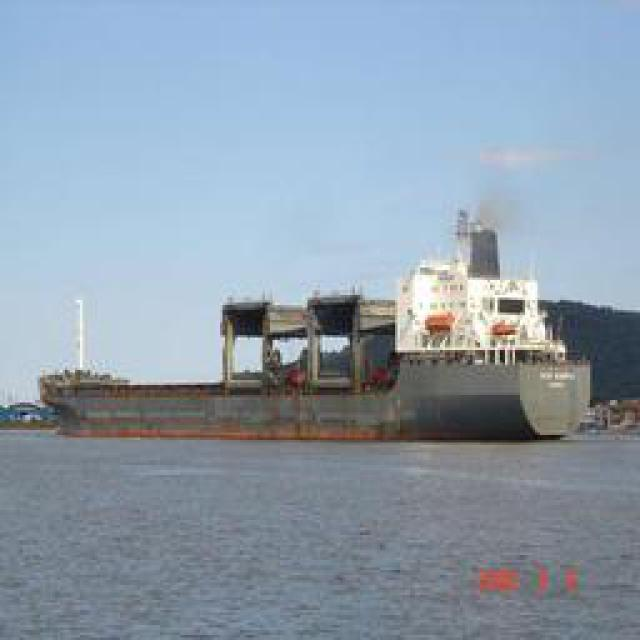Ship: (44, 209, 588, 448)
